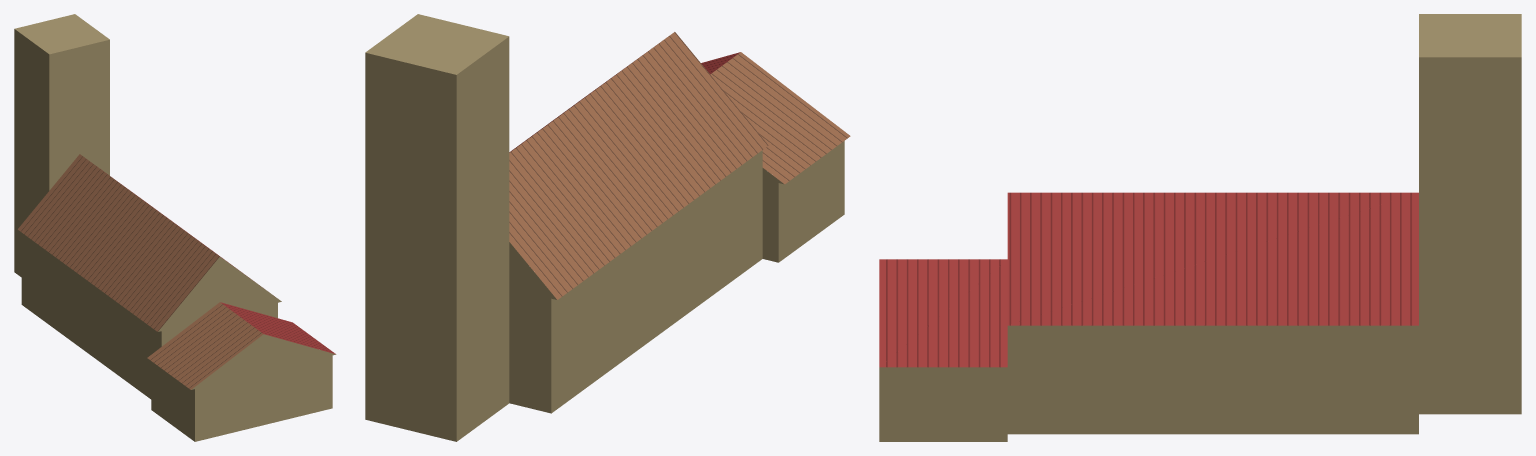
Rendered from holy_trinity_church_far.glb.
3 views of the same model, side by side, from view 1: azimuth 30°, elevation 25°; view 2: azimuth 150°, elevation 25°; view 3: azimuth 270°, elevation 25° (orthographic). The views are drawn at different scales.
Parts seen in each view (by area): view 1: m_brick_tan, m_roof_rust_sheet, m_roof_red_sheet; view 2: m_brick_tan, m_roof_rust_sheet; view 3: m_brick_tan, m_roof_red_sheet.
Boxes of the visible parts, x1,y1,x2,y2 form: m_brick_tan: (14, 14, 336, 441); m_roof_rust_sheet: (18, 154, 263, 389); m_roof_red_sheet: (101, 169, 335, 354); m_brick_tan: (365, 14, 844, 441); m_roof_rust_sheet: (509, 32, 850, 299); m_brick_tan: (879, 14, 1521, 441); m_roof_red_sheet: (879, 192, 1418, 367).
Size of the model in its own units: 14.4 by 23 by 37.5.
Materials: 3 (2 with a texture image).
